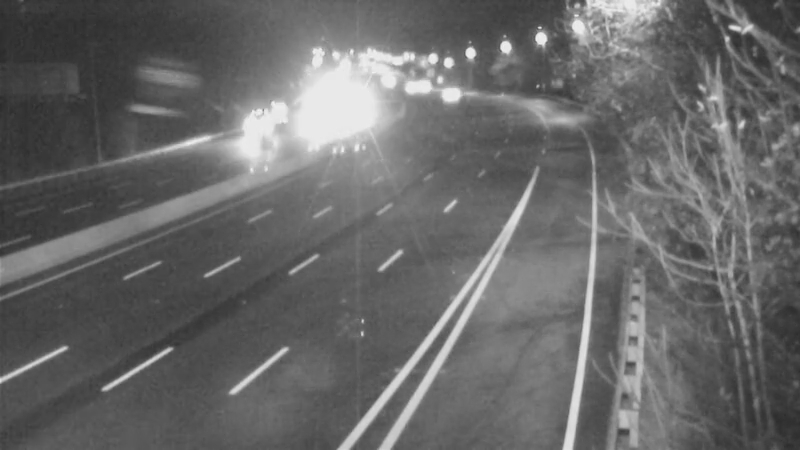vehicle: (422, 70, 472, 120), (219, 104, 269, 154)
